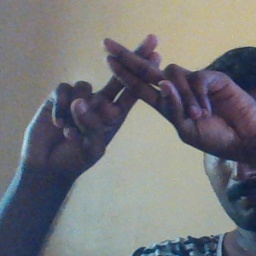F: (62, 27, 210, 145)
